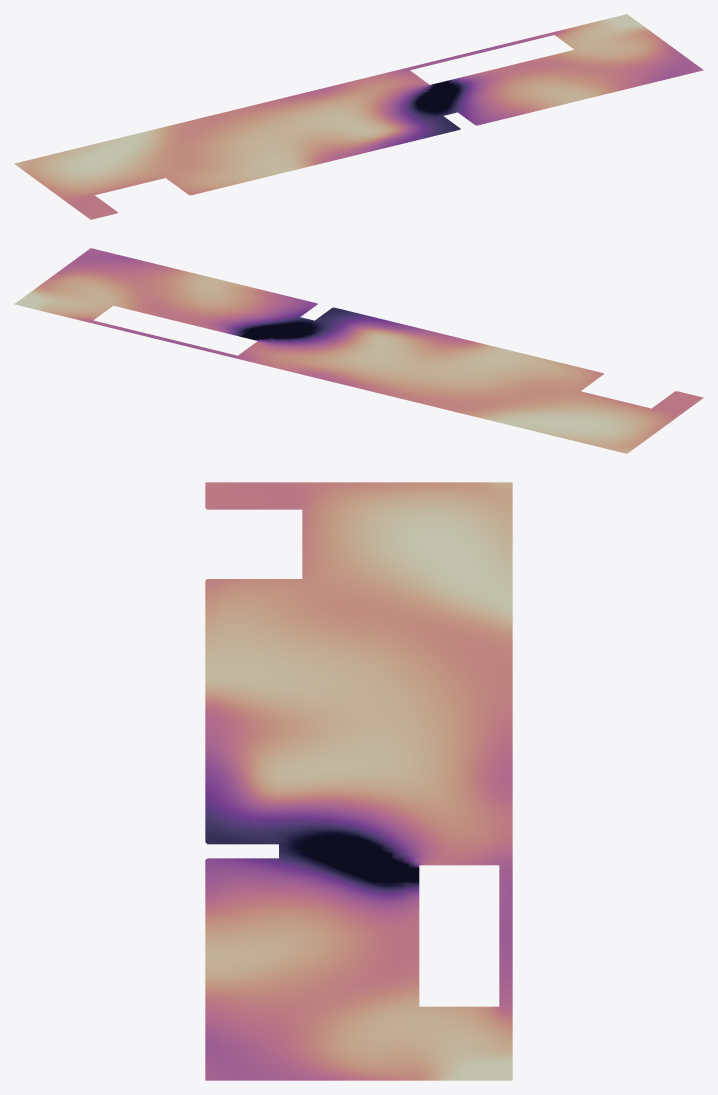
File: fpm_m0_coarse_ke_tr_AoA_z1.10.glb
3 views of the same model, one above another, from view 1: azimuth 30°, elevation 25°; view 2: azimuth 150°, elevation 25°; view 3: azimuth 270°, elevation 25° (orthographic). The views are drawn at different scales.
Visible parts, largest first — view 1: geometry_0; view 2: geometry_0; view 3: geometry_0.
Boxes of the visible parts, box(x1,y1,x2,y2) form: geometry_0: box(14, 14, 703, 219); geometry_0: box(14, 248, 703, 453); geometry_0: box(205, 482, 512, 1080).
Bounding box in the file's own units: 10.77 × 0 × 2.34.
